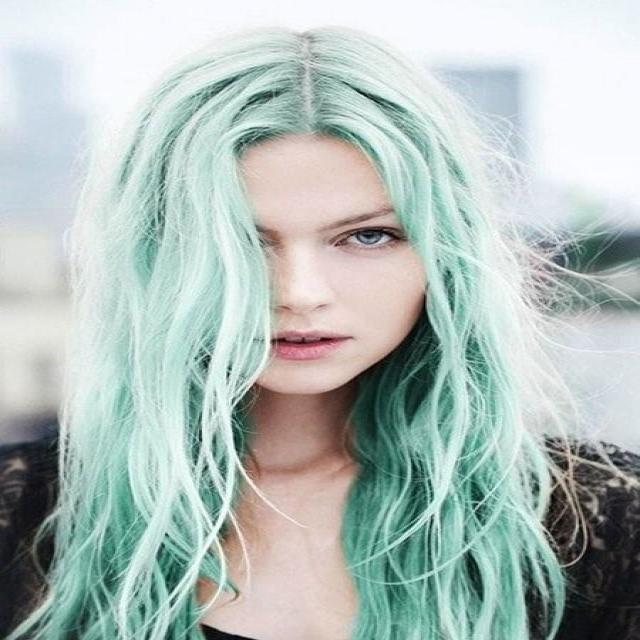Nonhelmet: (98, 25, 514, 400)
